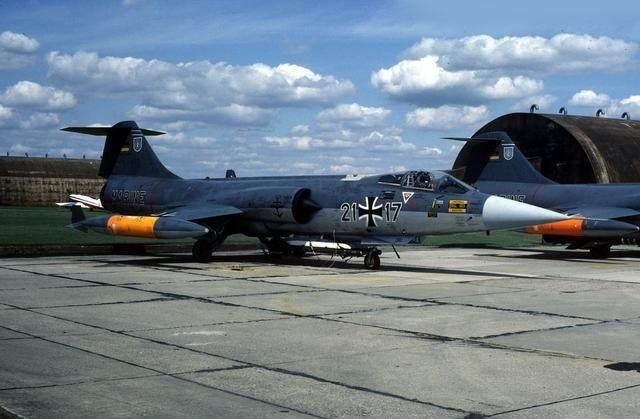airplane: (54, 112, 584, 269)
